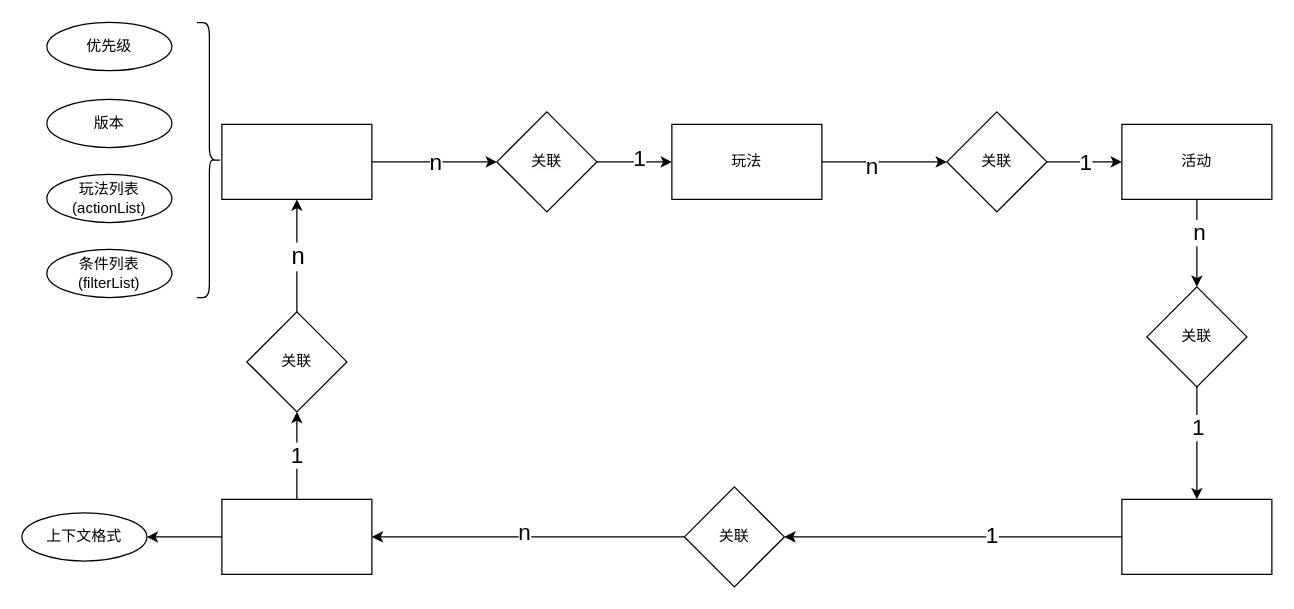
The diagram is 1294 pixels wide and 609 high, and some of its shapes have lost their labels. Here are the shapes that lost their labels. From the top down, the box of each, then its label:
(221, 123, 372, 199): 规则
(221, 498, 372, 574): 事件
(1121, 498, 1272, 574): 小游戏
